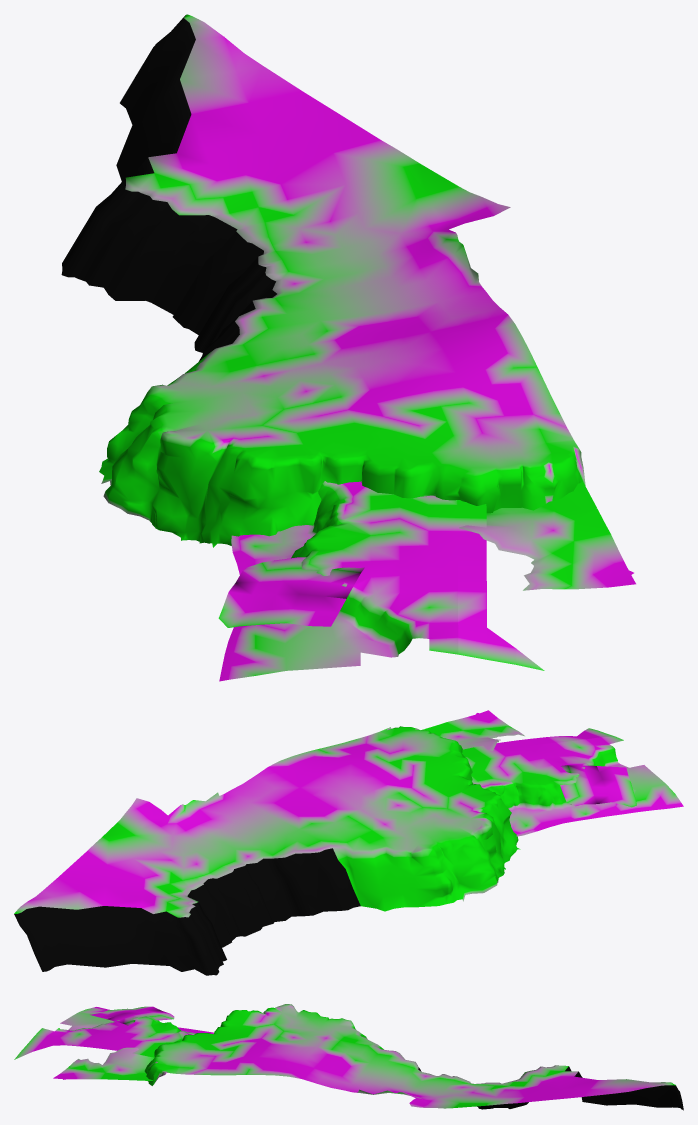
3 views of the same model, one above another, from view 1: azimuth 30°, elevation 25°; view 2: azimuth 150°, elevation 25°; view 3: azimuth 270°, elevation 25° (orthographic). The views are drawn at different scales.
Visible parts, largest first — view 1: G:\FFXIV-MapTools\exports\f1f1\bg\ffxiv\fst_f1\fld\f1f1\bgpa (×3); view 2: G:\FFXIV-MapTools\exports\f1f1\bg\ffxiv\fst_f1\fld\f1f1\bgpa (×3); view 3: G:\FFXIV-MapTools\exports\f1f1\bg\ffxiv\fst_f1\fld\f1f1\bgpa (×3).
Boxes of the visible parts, bbox=[...] form: G:\FFXIV-MapTools\exports\f1f1\bg\ffxiv\fst_f1\fld\f1f1\bgpa (×3): bbox=[61, 14, 635, 681]; G:\FFXIV-MapTools\exports\f1f1\bg\ffxiv\fst_f1\fld\f1f1\bgpa (×3): bbox=[14, 710, 683, 975]; G:\FFXIV-MapTools\exports\f1f1\bg\ffxiv\fst_f1\fld\f1f1\bgpa (×3): bbox=[14, 1004, 683, 1110].
Size of the model in its own units: 265 by 58.02 by 508.
